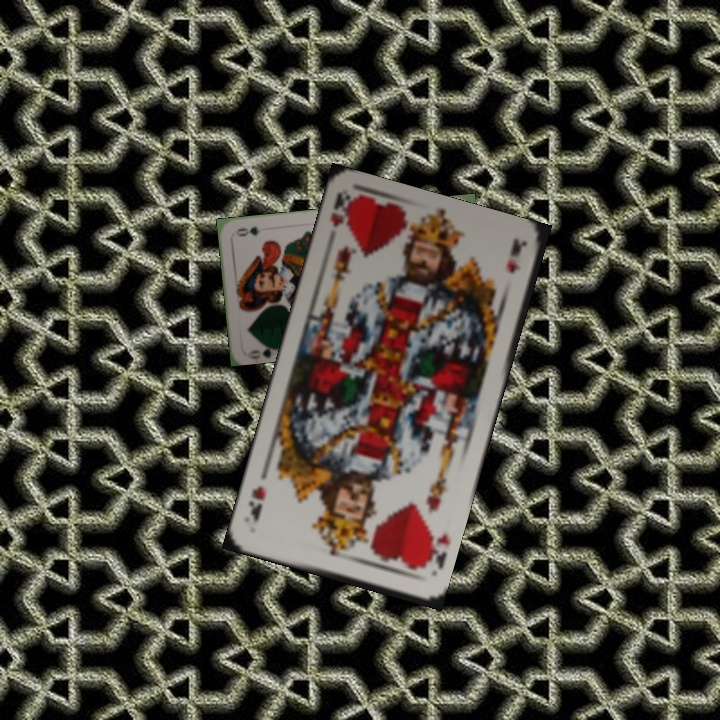GO: (244, 339, 284, 358)
HK: (417, 526, 453, 572), (326, 190, 357, 231)
